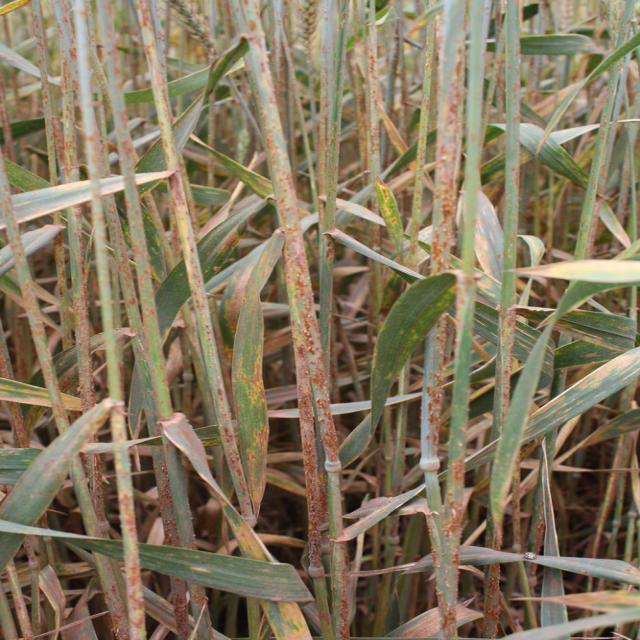wheat-stemrust: (255, 92, 338, 560), (170, 188, 209, 329), (434, 84, 460, 276)
